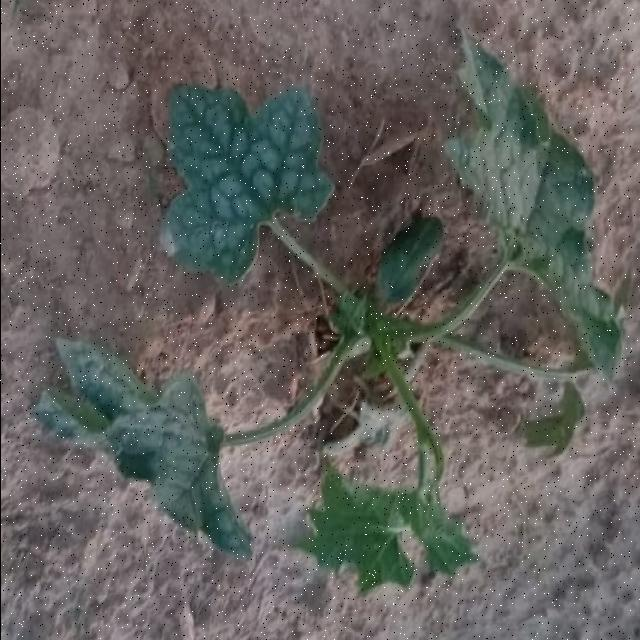plant: (33, 35, 621, 592)
